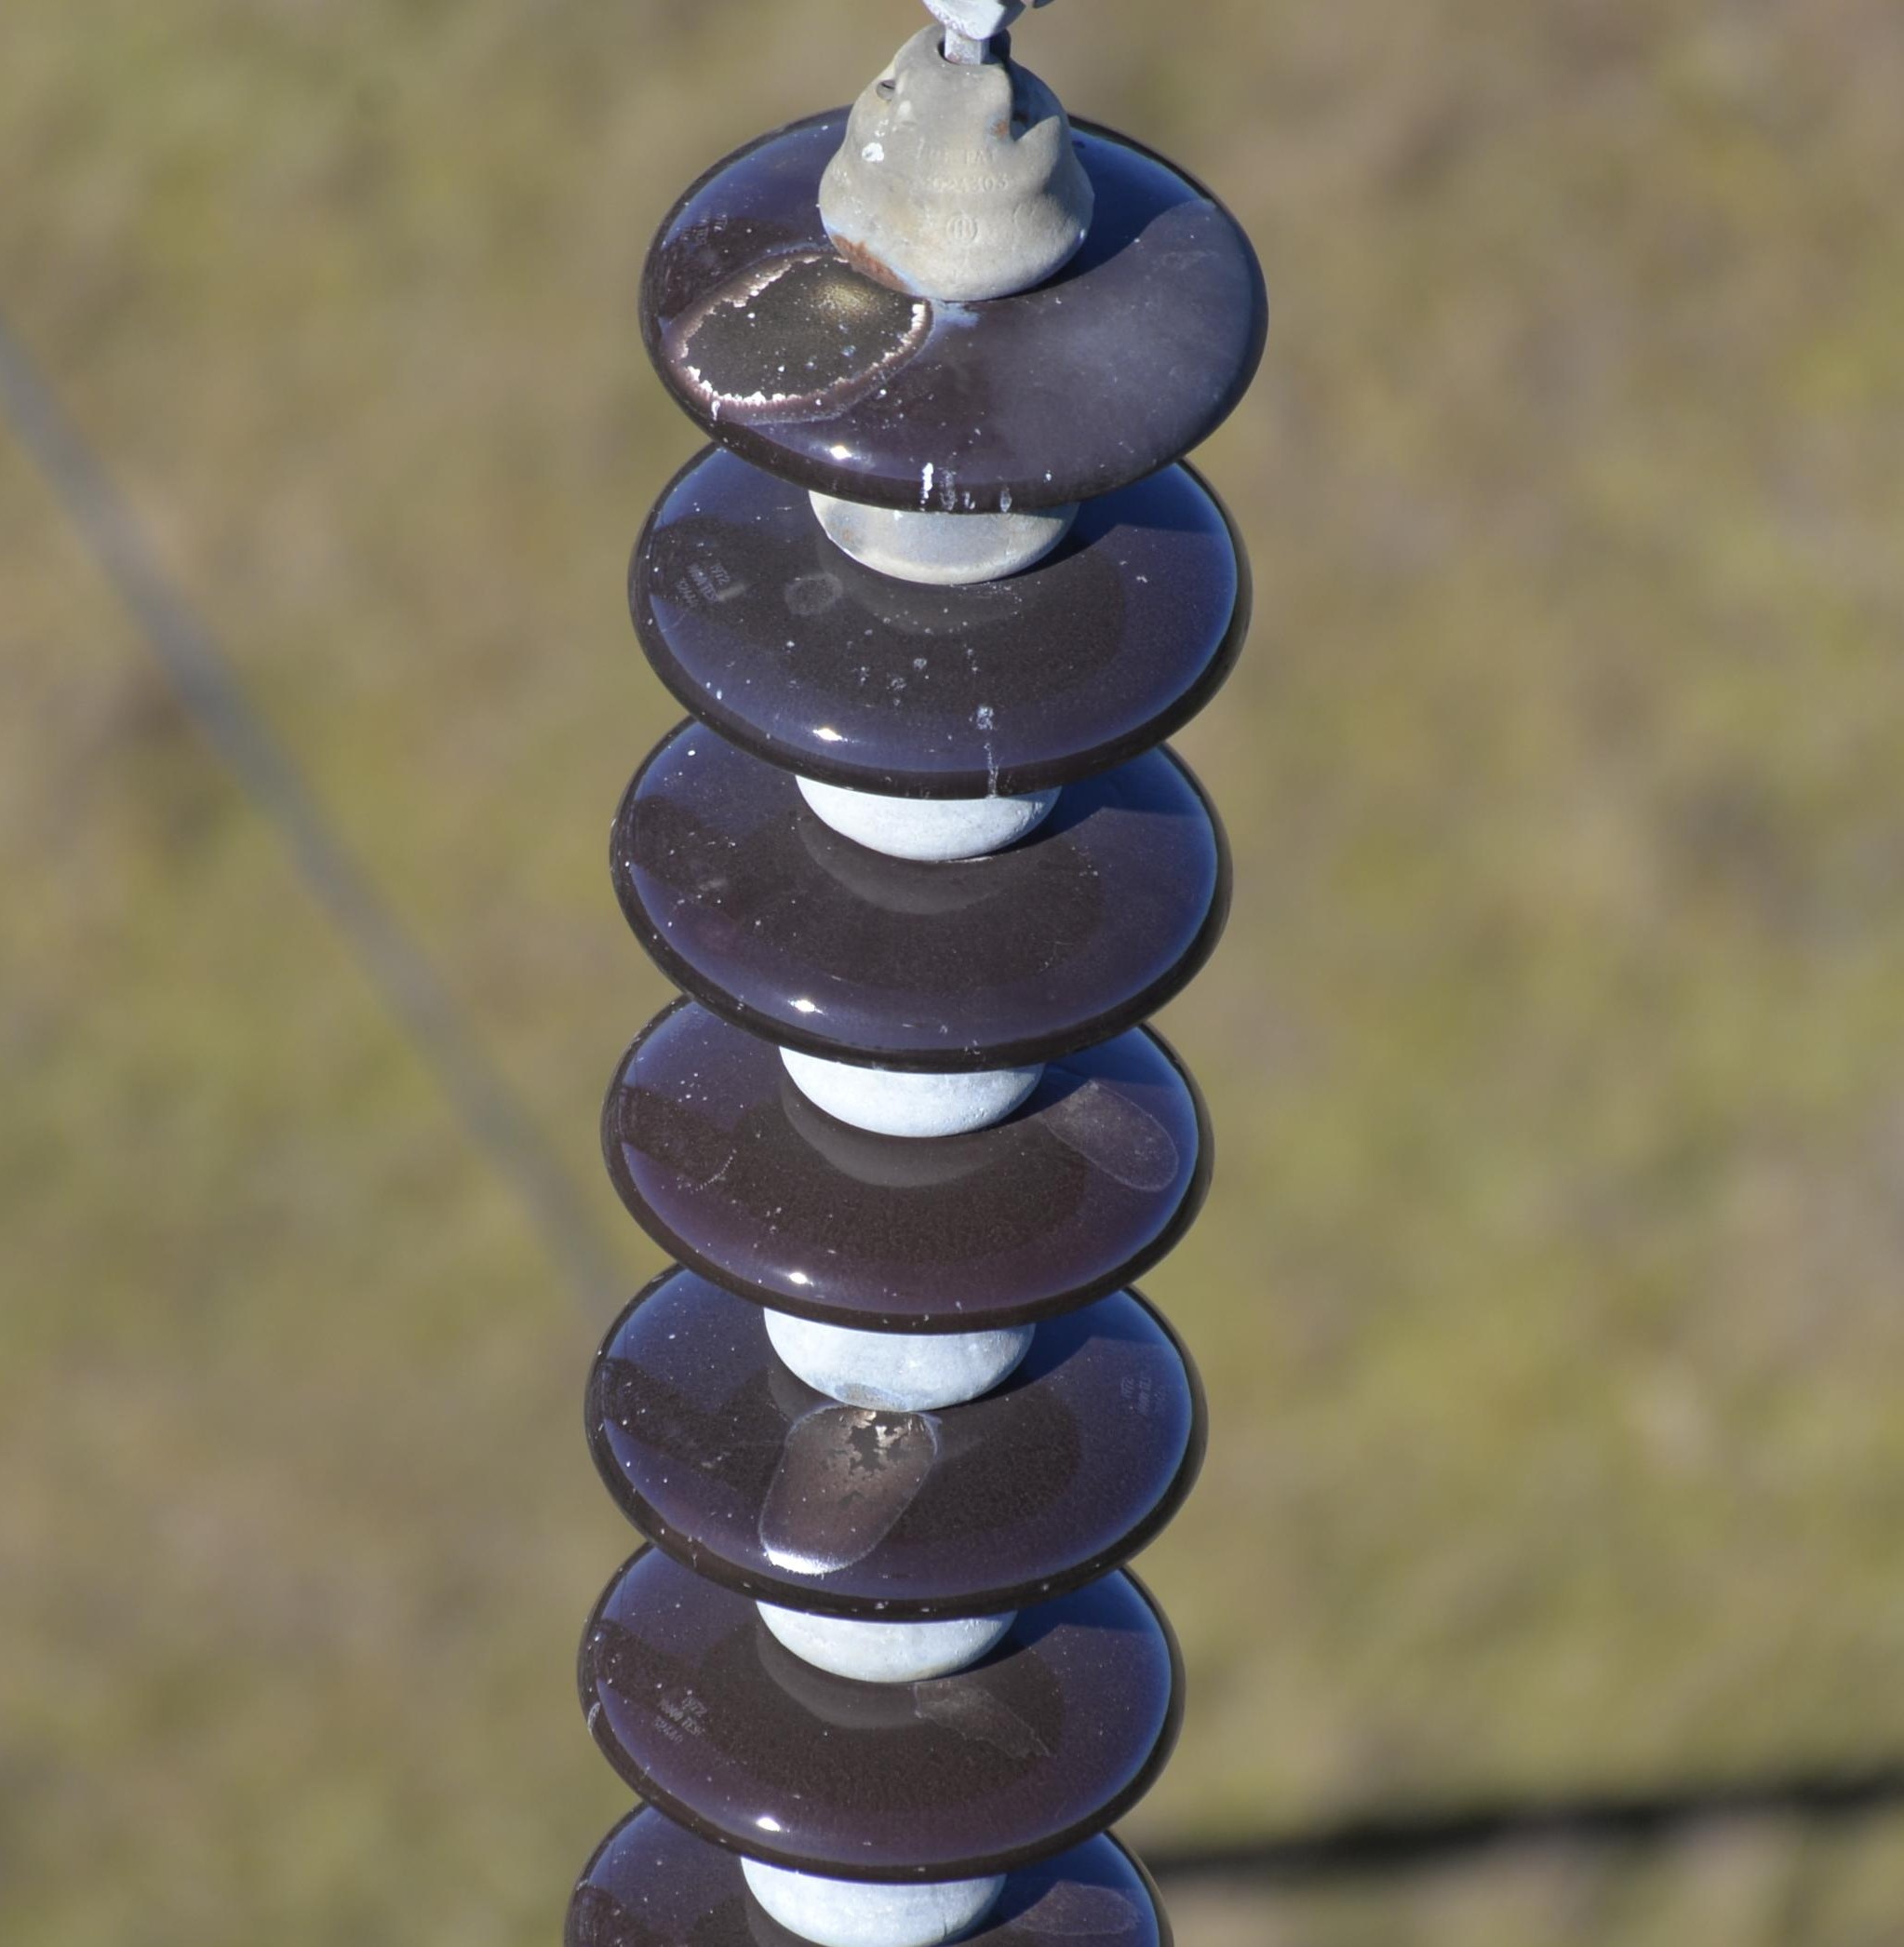Insulator flashover: (624, 75, 1280, 525)
